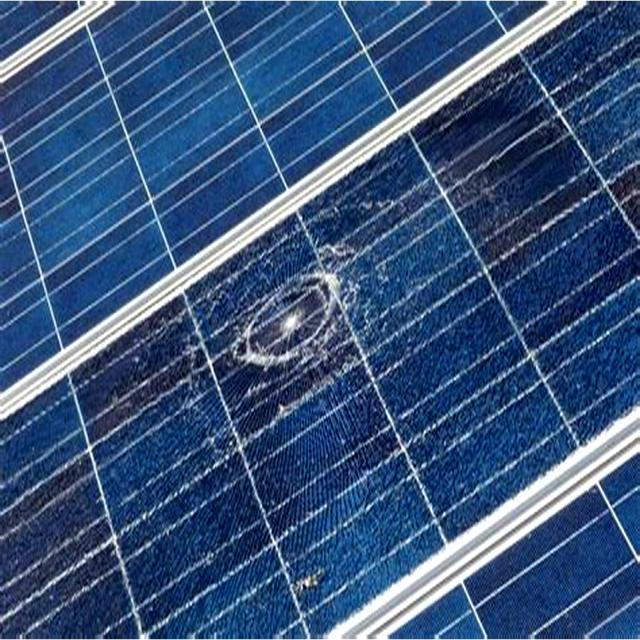hotspot: (223, 248, 371, 410)
